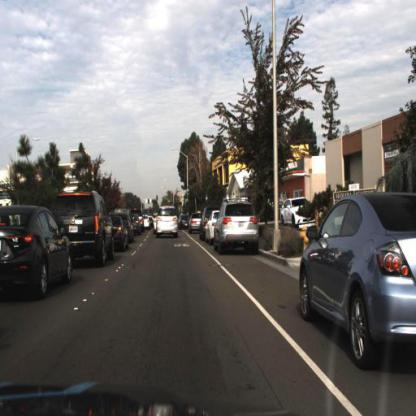car: (295, 187, 416, 369), (1, 197, 79, 313), (1, 201, 76, 302), (68, 173, 118, 282), (52, 190, 117, 269), (214, 193, 263, 259), (213, 196, 262, 260), (275, 189, 316, 235), (153, 198, 185, 248), (112, 204, 130, 254), (207, 206, 219, 249), (188, 211, 202, 238), (188, 208, 200, 239), (200, 206, 209, 246)
